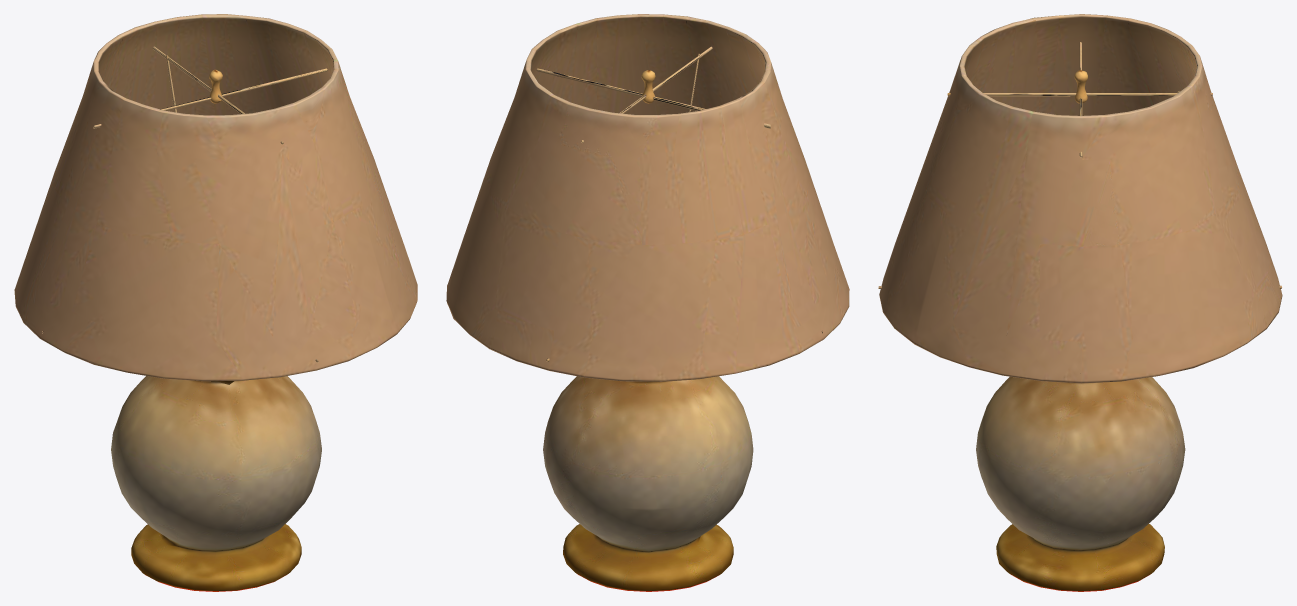
The model's file is bedside_lamp.glb.
3 renders of one model, left to right at view 1: azimuth 30°, elevation 25°; view 2: azimuth 150°, elevation 25°; view 3: azimuth 270°, elevation 25°, orthographic.
Visible parts, largest first — view 1: geometry_0; view 2: geometry_0; view 3: geometry_0.
Boxes of the visible parts, x1=… form: geometry_0: x1=14, y1=14, x2=417, y2=591; geometry_0: x1=446, y1=14, x2=849, y2=591; geometry_0: x1=878, y1=14, x2=1282, y2=591.
Bounding box in the file's own units: 0.7494 × 1 × 0.7453.
Materials: 1 (1 with a texture image).
